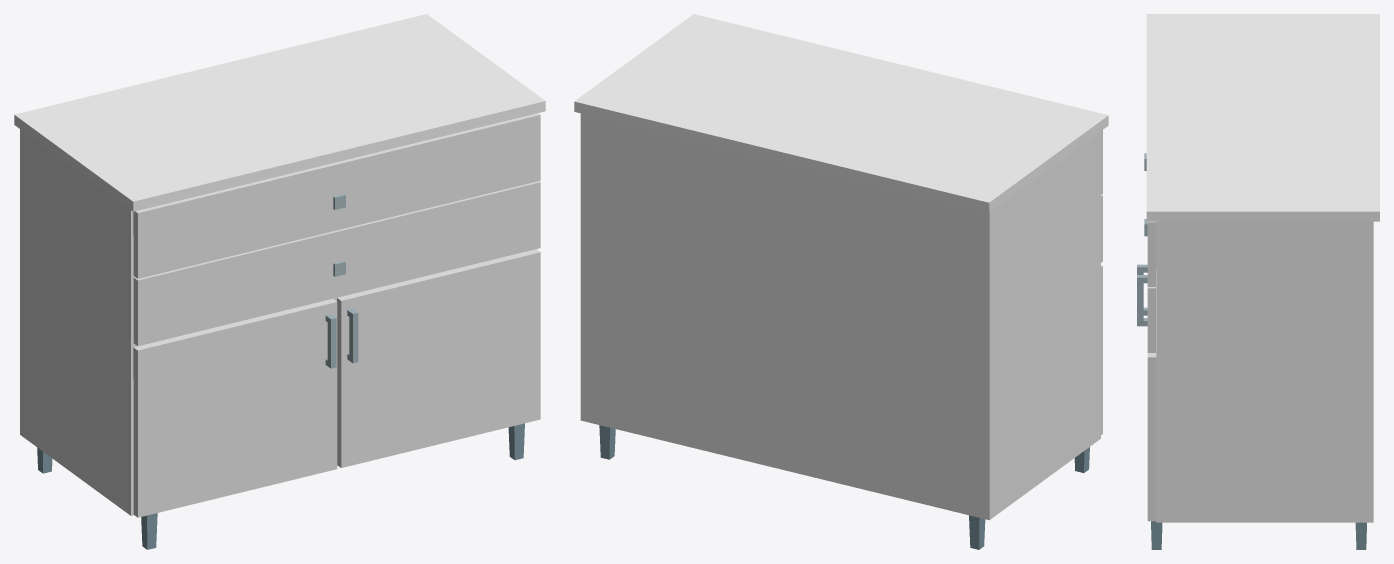
File: kitchen_item_059.glb
The picture shows the model from 3 angles, left to right: view 1: azimuth 30°, elevation 25°; view 2: azimuth 150°, elevation 25°; view 3: azimuth 270°, elevation 25°; orthographic projection. The views are drawn at different scales.
Parts seen in each view (by area): view 1: kitchen_item_059; view 2: kitchen_item_059; view 3: kitchen_item_059.
Boxes of the visible parts, x1,y1,x2,y2 form: kitchen_item_059: [14, 14, 545, 549]; kitchen_item_059: [574, 14, 1108, 549]; kitchen_item_059: [1137, 14, 1379, 549].
Size of the model in its own units: 1.27 by 1.04 by 0.6605.
Materials: 1 (1 with a texture image).
